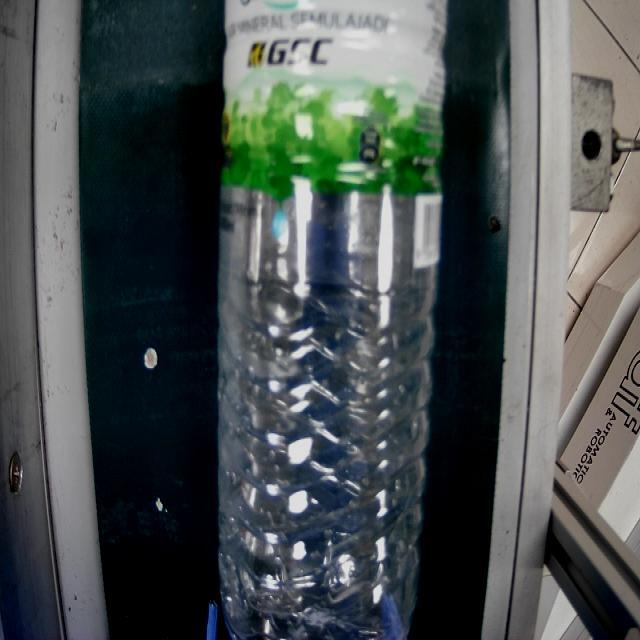Pet_Bottle: (217, 0, 419, 634)
